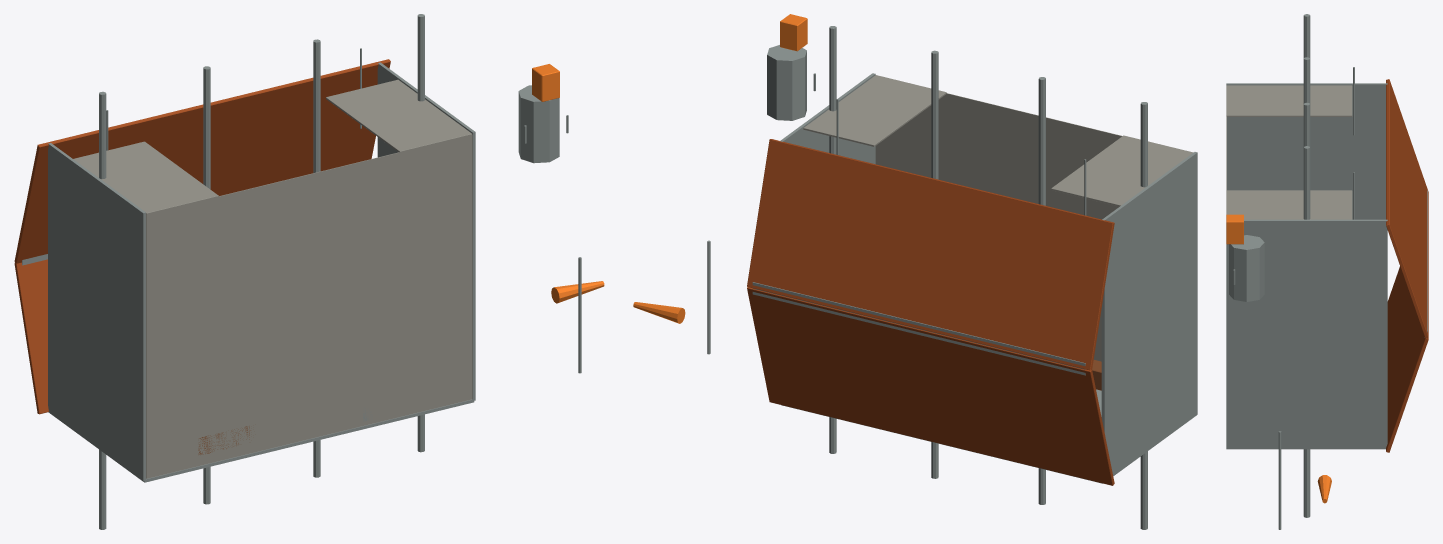
Rendered from field_hangar_compound.glb.
3 views of the same model, side by side, from view 1: azimuth 30°, elevation 25°; view 2: azimuth 150°, elevation 25°; view 3: azimuth 270°, elevation 25° (orthographic). The views are drawn at different scales.
Visible parts, largest first — view 1: floor_slab, side_wall, roof_panel.001, sliding_door.001, sliding_door, roof_panel, fuel_tank, side_wall.001, back_wall, frame_post_front.002, frame_post_front.001, fuel_bowser (+2 smaller); view 2: roof_panel.001, roof_panel, side_wall, floor_slab, sliding_door.001, sliding_door, fuel_tank, ridge_cap, side_wall.001, frame_post_front.002, frame_post_front.001, fuel_bowser (+2 smaller); view 3: side_wall.001, side_wall, roof_panel.001, roof_panel, sliding_door, sliding_door.001, fuel_tank, frame_post_front.003, fuel_bowser, frame_post_back.003, sock_pole, frame_post_front.001 (+4 smaller).
Boxes of the visible parts, x1,y1,x2,y2 form: floor_slab: (146,135,472,478); side_wall: (48,143,145,481); roof_panel.001: (14,59,390,263); sliding_door.001: (326,79,472,152); sliding_door: (73,141,218,214); roof_panel: (14,259,48,414); fuel_tank: (518,85,559,163); side_wall.001: (377,62,475,400); back_wall: (50,399,474,482); frame_post_front.002: (313,39,320,172); frame_post_front.001: (203,66,210,189); fuel_bowser: (532,64,559,101); roof_panel.001: (747,139,1114,370); roof_panel: (747,287,1114,485); side_wall: (1101,152,1197,475); floor_slab: (875,93,1122,361); sliding_door.001: (803,75,946,146); sliding_door: (1051,135,1193,206); fuel_tank: (767,45,806,120); ridge_cap: (752,282,1085,375); side_wall.001: (780,73,875,164); frame_post_front.002: (931,50,938,179); frame_post_front.001: (1038,77,1045,205); fuel_bowser: (780,14,807,51); side_wall.001: (1226,219,1387,448); side_wall: (1226,83,1387,219); roof_panel.001: (1386,79,1428,338); roof_panel: (1386,266,1428,452); sliding_door: (1226,85,1352,116); sliding_door.001: (1226,190,1352,219); fuel_tank: (1229,235,1264,301); frame_post_front.003: (1303,146,1310,219); fuel_bowser: (1226,214,1243,244); frame_post_back.003: (1303,449,1310,517); sock_pole: (1278,431,1281,529); frame_post_front.001: (1303,57,1310,103).
Size of the model in its own units: 28.8 by 22.7 by 11.29.
